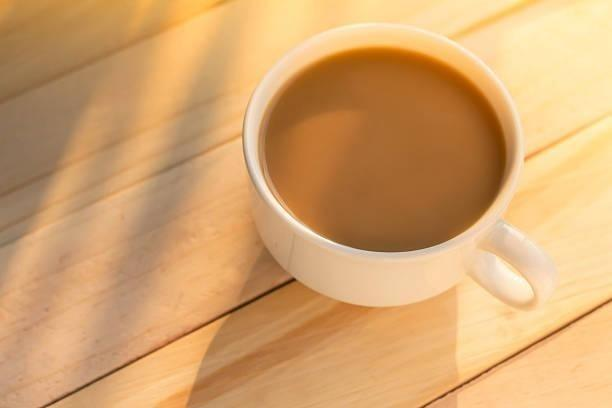cup-handle: (241, 20, 558, 312)
